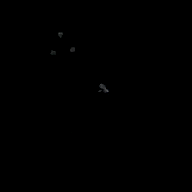v: (47, 29, 74, 55)
